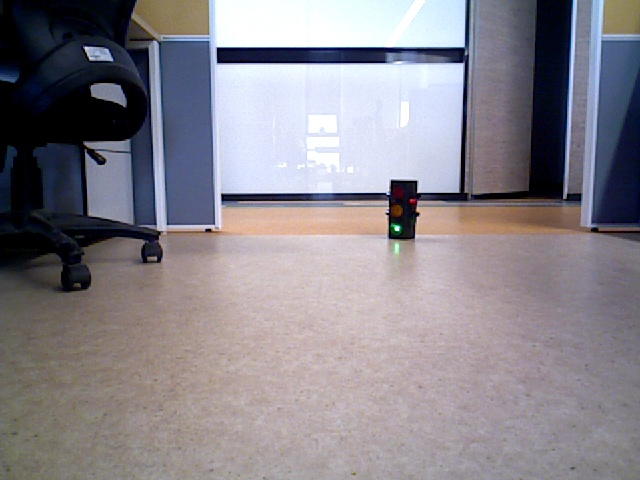green: (390, 181, 412, 236)
